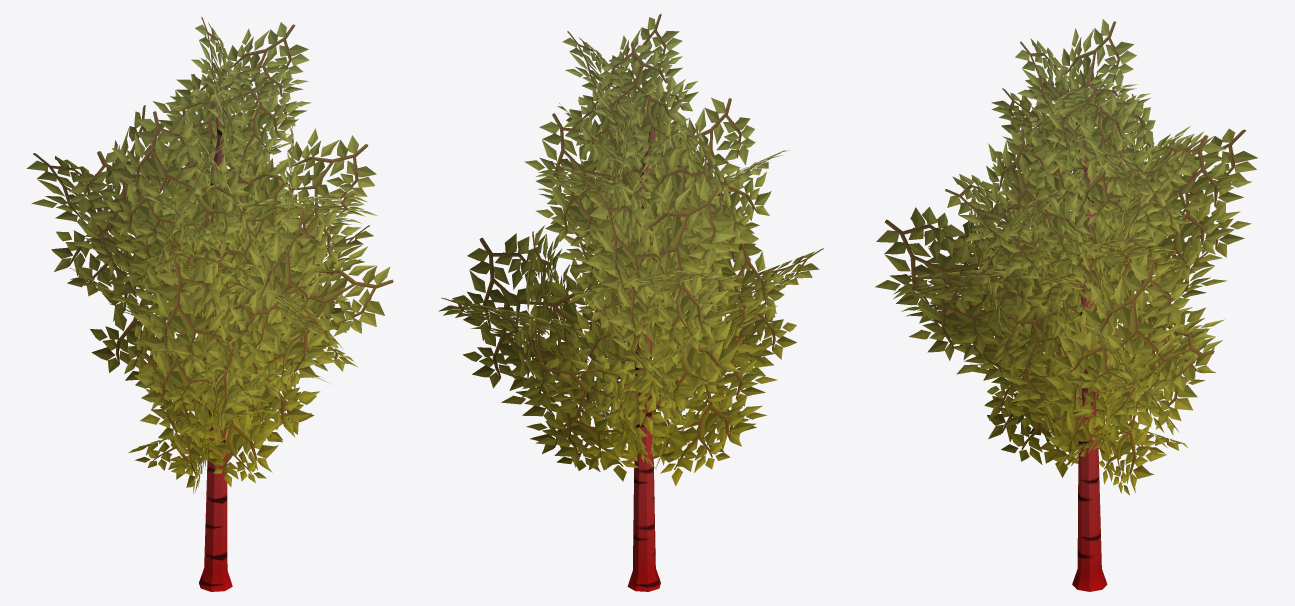
The picture shows the model from 3 angles, left to right: view 1: azimuth 30°, elevation 25°; view 2: azimuth 150°, elevation 25°; view 3: azimuth 270°, elevation 25°; orthographic projection.
Visible parts, largest first — view 1: SM_Tree_Birch_Small_01; view 2: SM_Tree_Birch_Small_01; view 3: SM_Tree_Birch_Small_01.
Boxes of the visible parts, x1,y1,x2,y2 form: SM_Tree_Birch_Small_01: [26, 17, 393, 591]; SM_Tree_Birch_Small_01: [438, 14, 823, 591]; SM_Tree_Birch_Small_01: [875, 19, 1257, 591].
Bounding box in the file's own units: 1.17 × 1.88 × 1.27.
2 materials, 2 textured.
